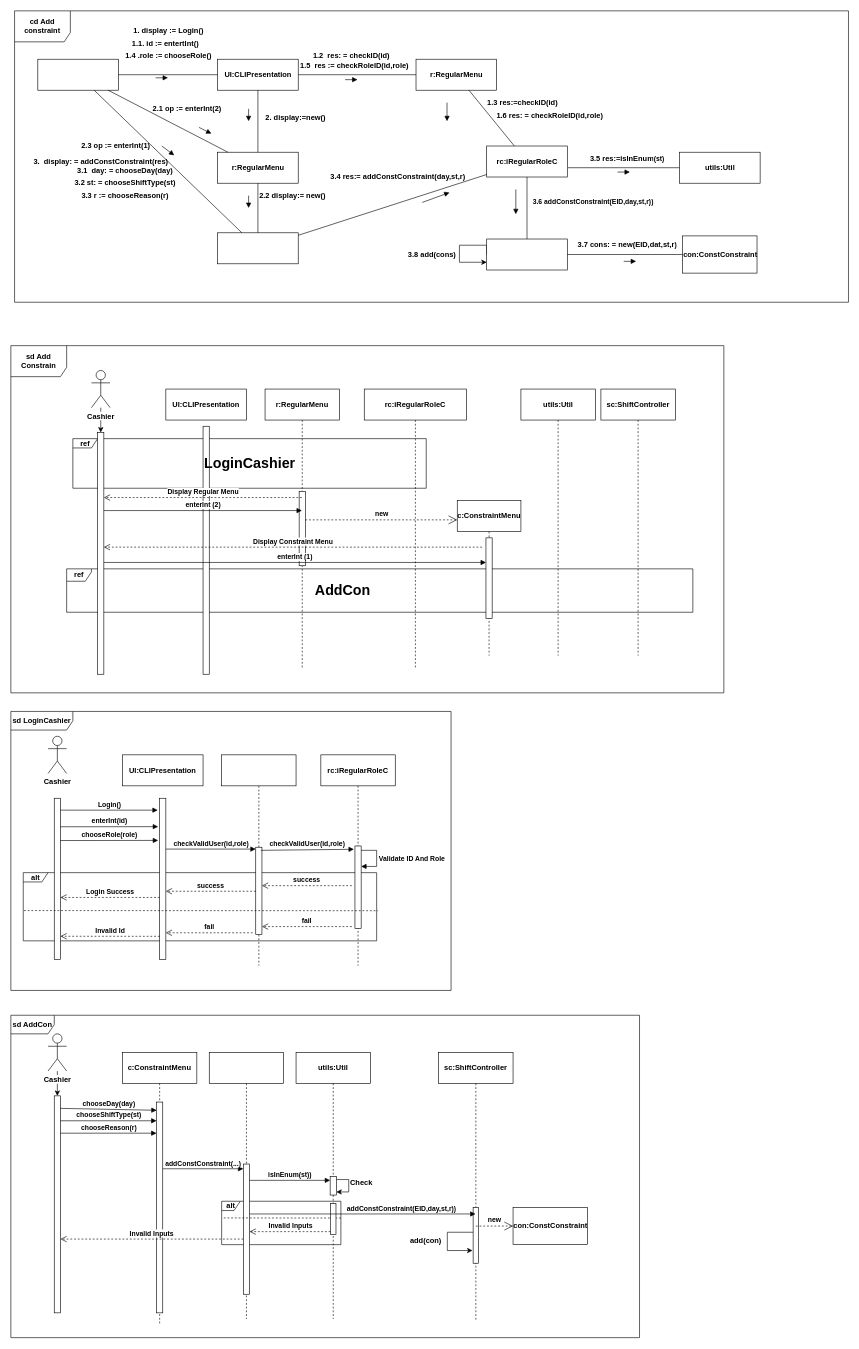
Some shapes in this 859 by 1349 pixel diagram are drawn without their labels. Each missing label, with the centre of its shape:
con:ConstraintMenu: (x=257, y=248)
GUI: (x=77, y=74)
rc: iRegularRoleC: (x=246, y=1185)
RegularMenu: Menu: (x=258, y=860)
sc:shiftConstroller: (x=526, y=254)
